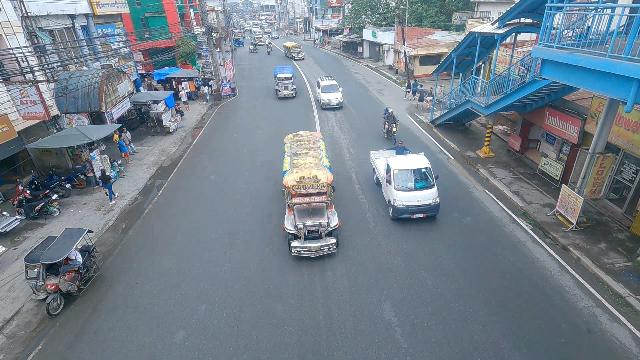jeepney: (279, 129, 342, 261), (273, 64, 297, 100)
motorcycle: (379, 107, 398, 143)
truck: (368, 147, 440, 222)
